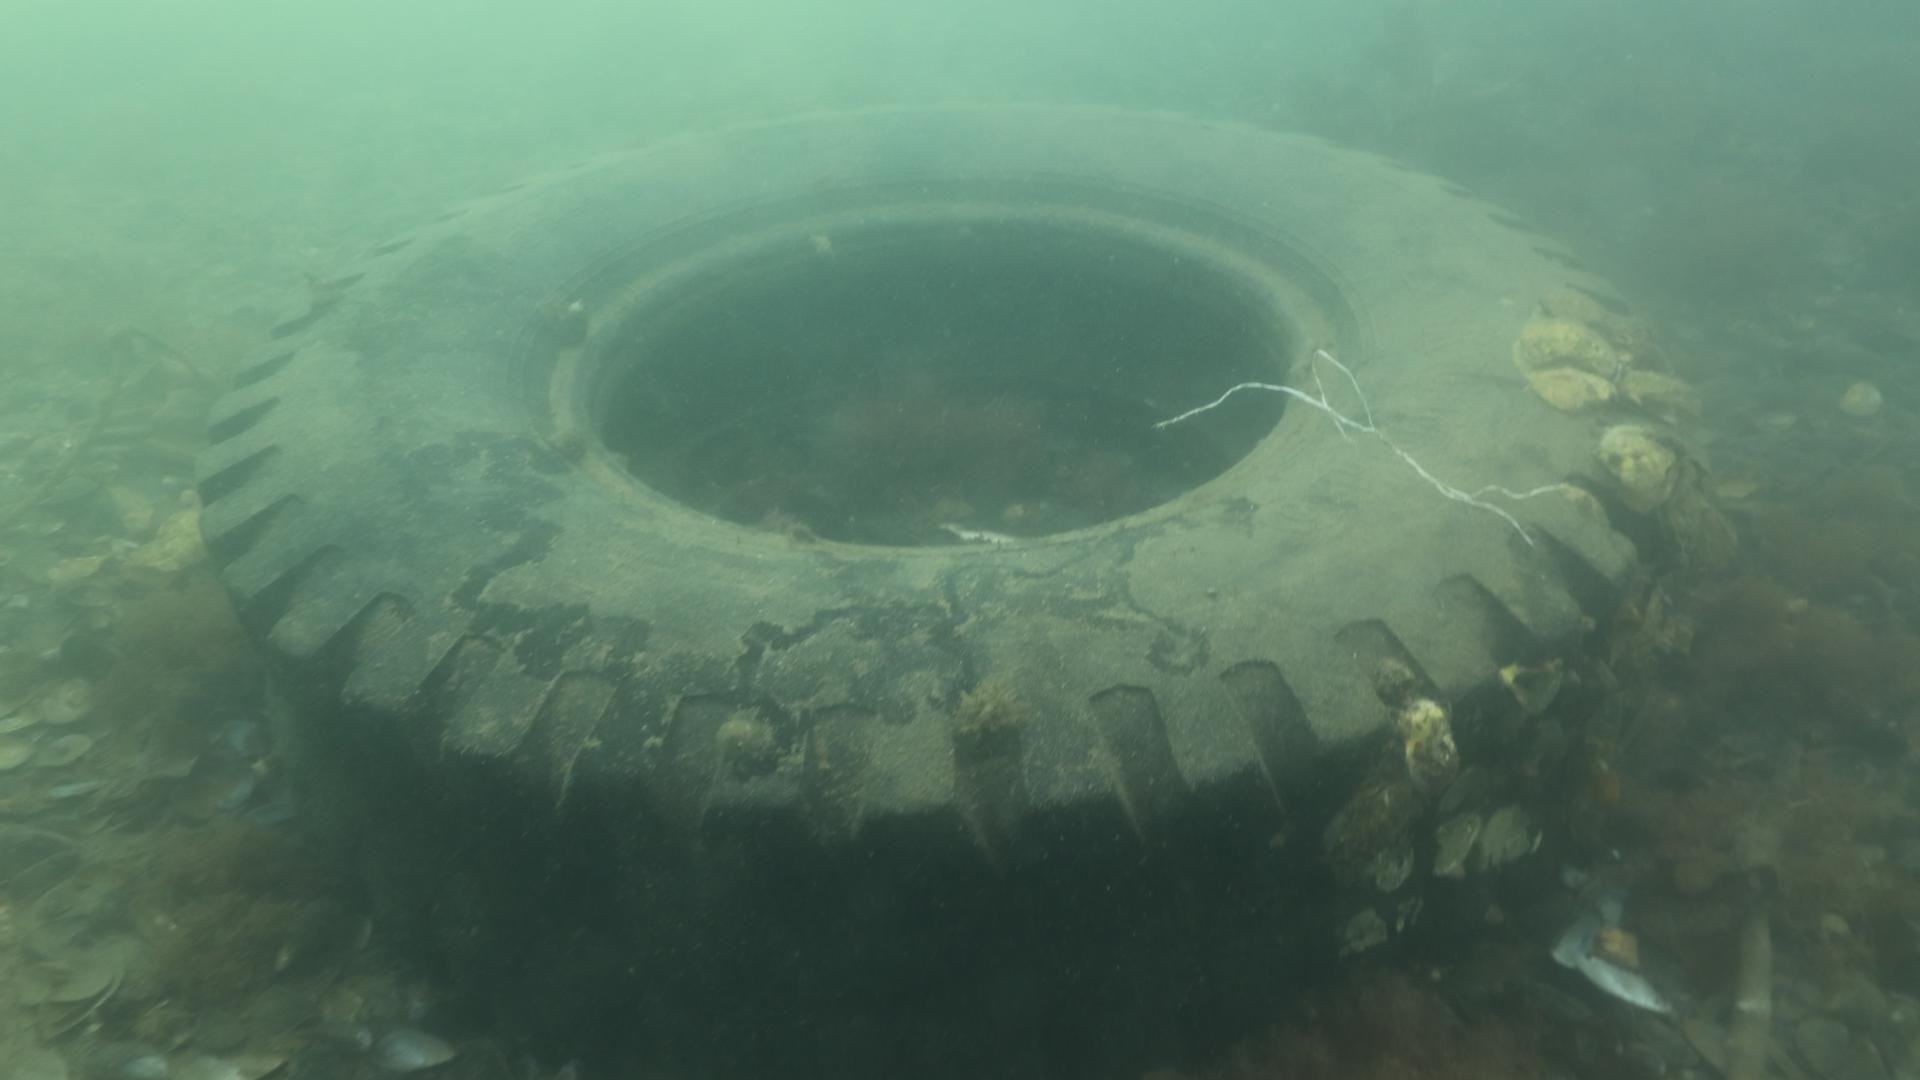tire: (193, 99, 1717, 1075)
